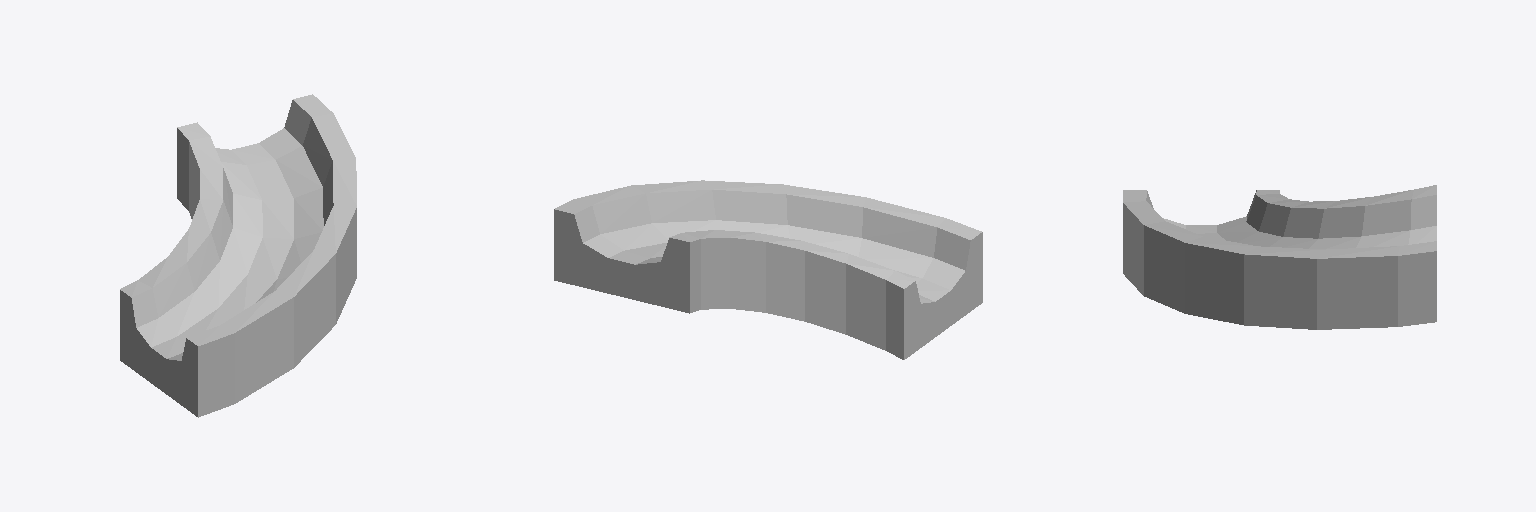
Rendered from helix-quarter-left.obj.
3 renders of one model, left to right at view 1: azimuth 30°, elevation 25°; view 2: azimuth 150°, elevation 25°; view 3: azimuth 270°, elevation 25°, orthographic.
Visible parts, largest first — view 1: helix-quarter-left; view 2: helix-quarter-left; view 3: helix-quarter-left.
Boxes of the visible parts, box(x1,y1,x2,y2) form: helix-quarter-left: box(120, 94, 356, 417); helix-quarter-left: box(554, 180, 982, 359); helix-quarter-left: box(1123, 185, 1436, 329).
Bounding box in the file's own units: 2 × 1 × 2.